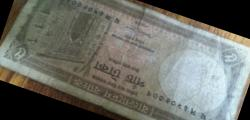5 taka: (8, 1, 246, 119)
